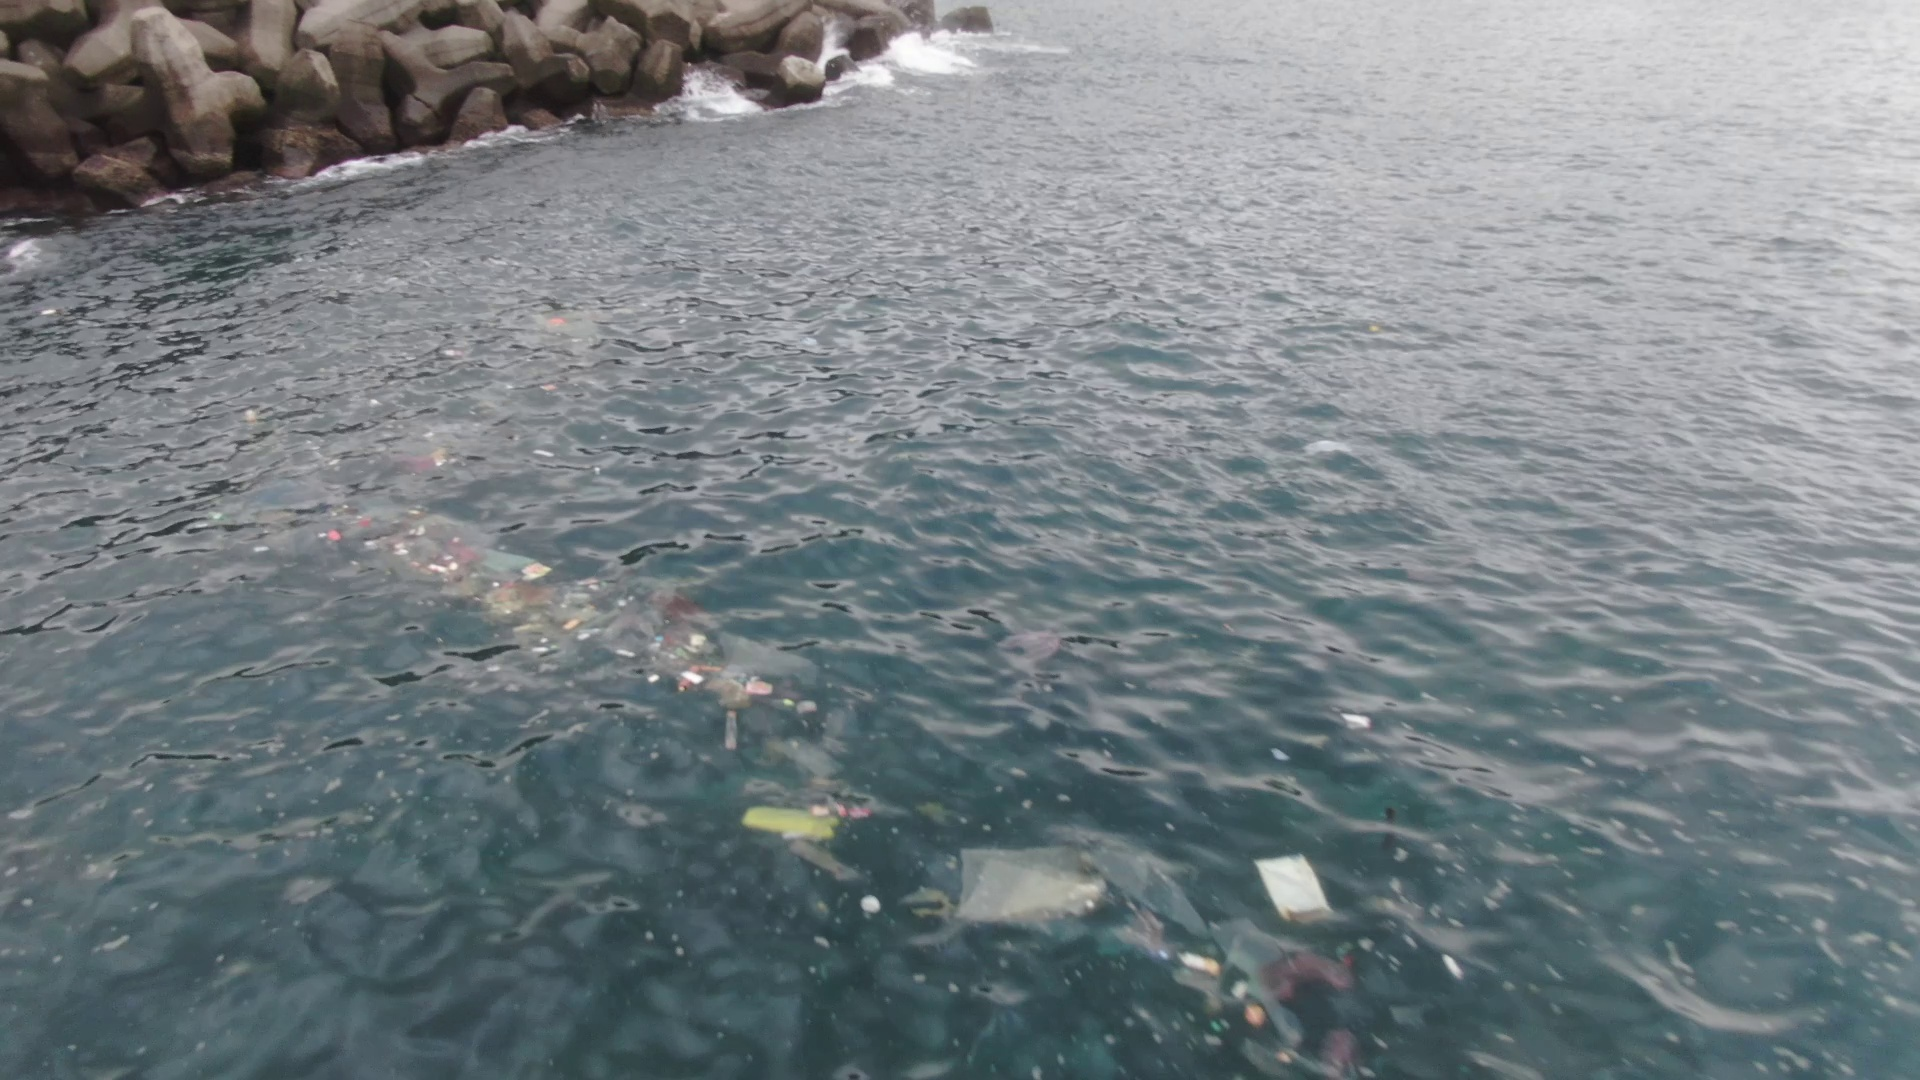garbage: (327, 502, 782, 756), (1170, 942, 1366, 1072), (948, 849, 1118, 942), (1250, 843, 1335, 931), (738, 799, 845, 856)
